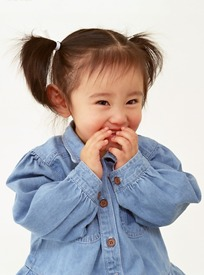face: (75, 62, 142, 148)
